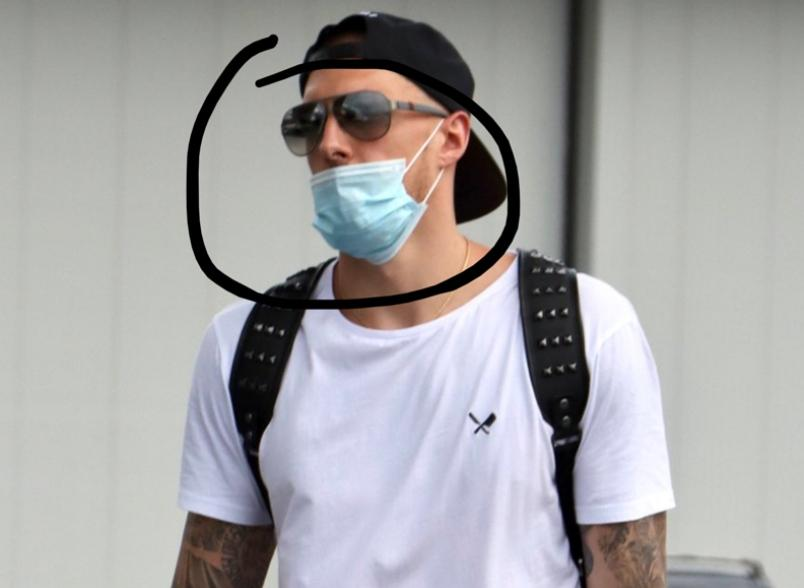Wore Mask Incorrectly: (224, 30, 521, 272)
